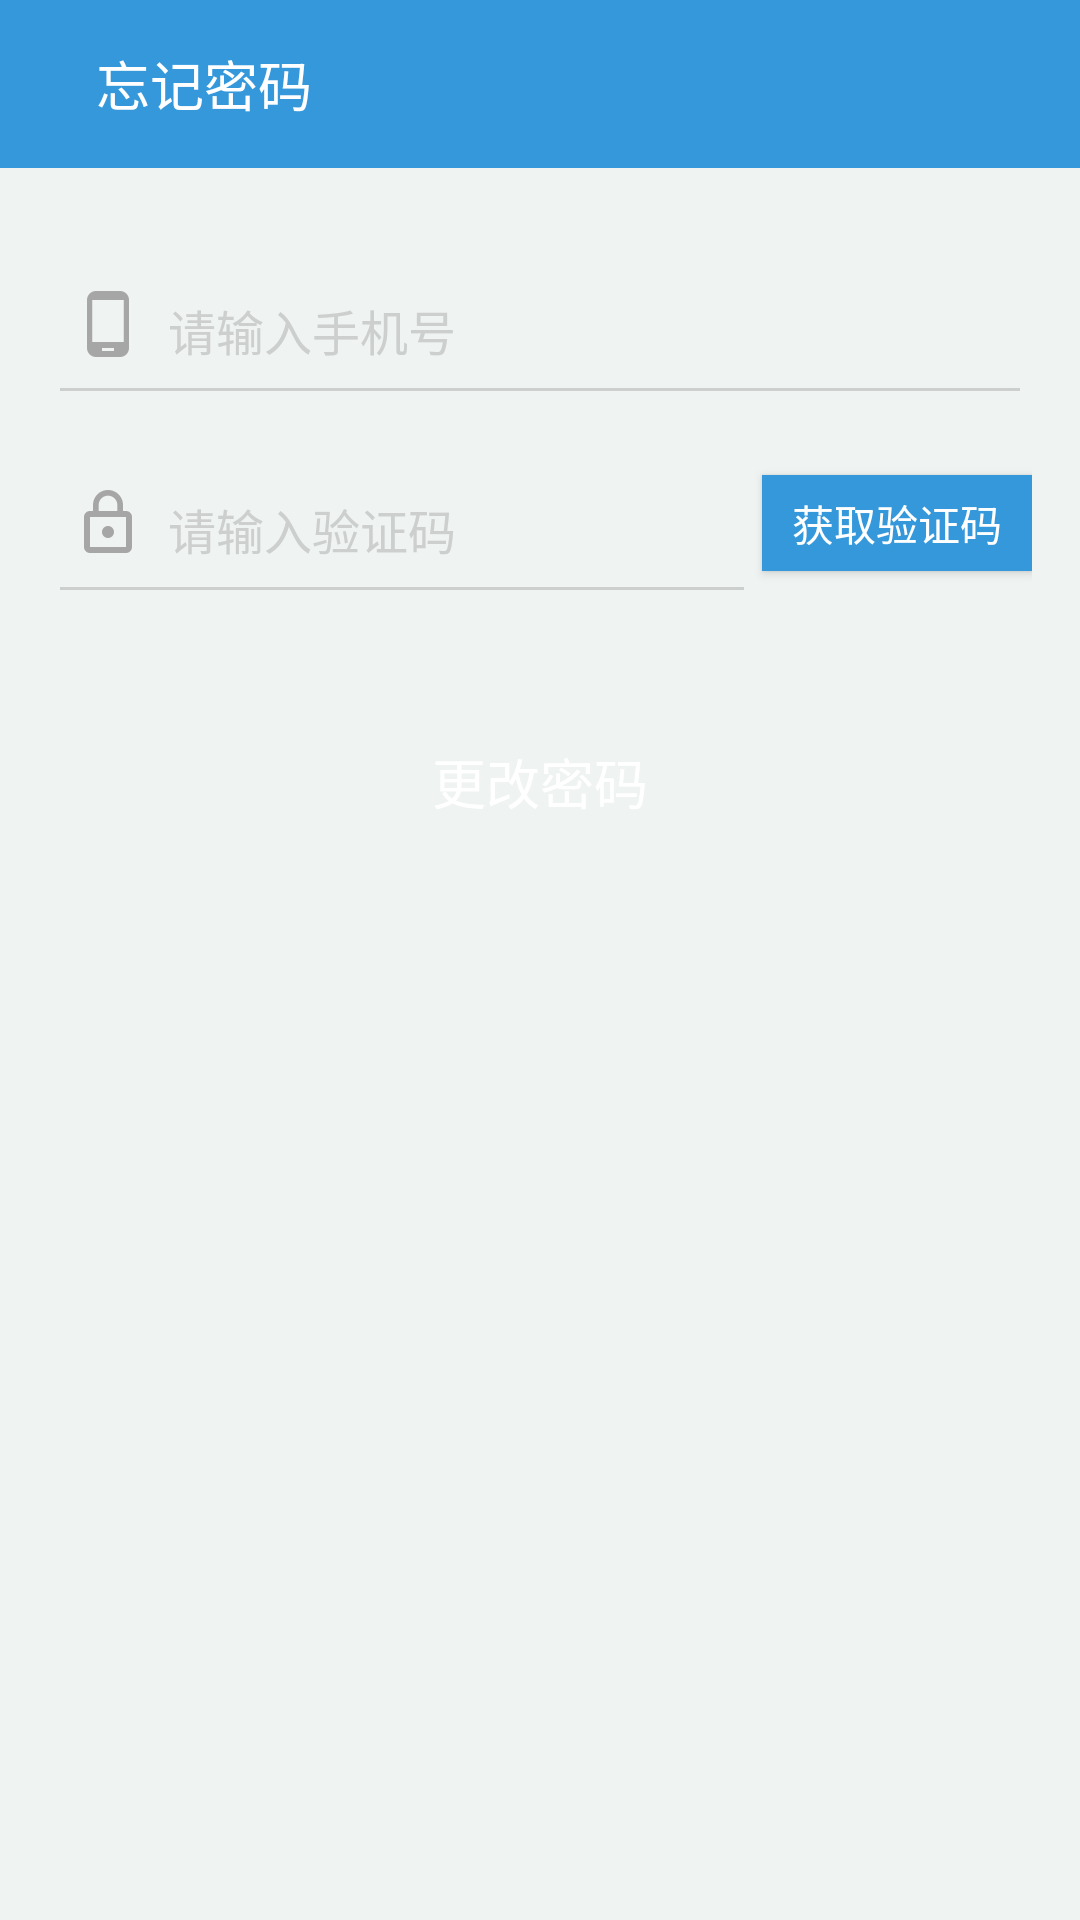

Icons on this 1080*1920 Android screen, each with its box as (x1, y1, x2, y2):
lock: (84, 490, 132, 553)
phone android: (87, 291, 129, 357)
